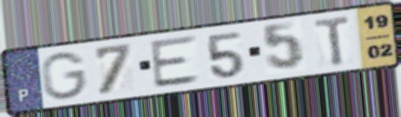5: (259, 20, 308, 75), (204, 29, 249, 79)
7: (93, 41, 135, 98)
E: (148, 33, 203, 90)
G: (39, 50, 90, 102)
T: (312, 13, 353, 68)
